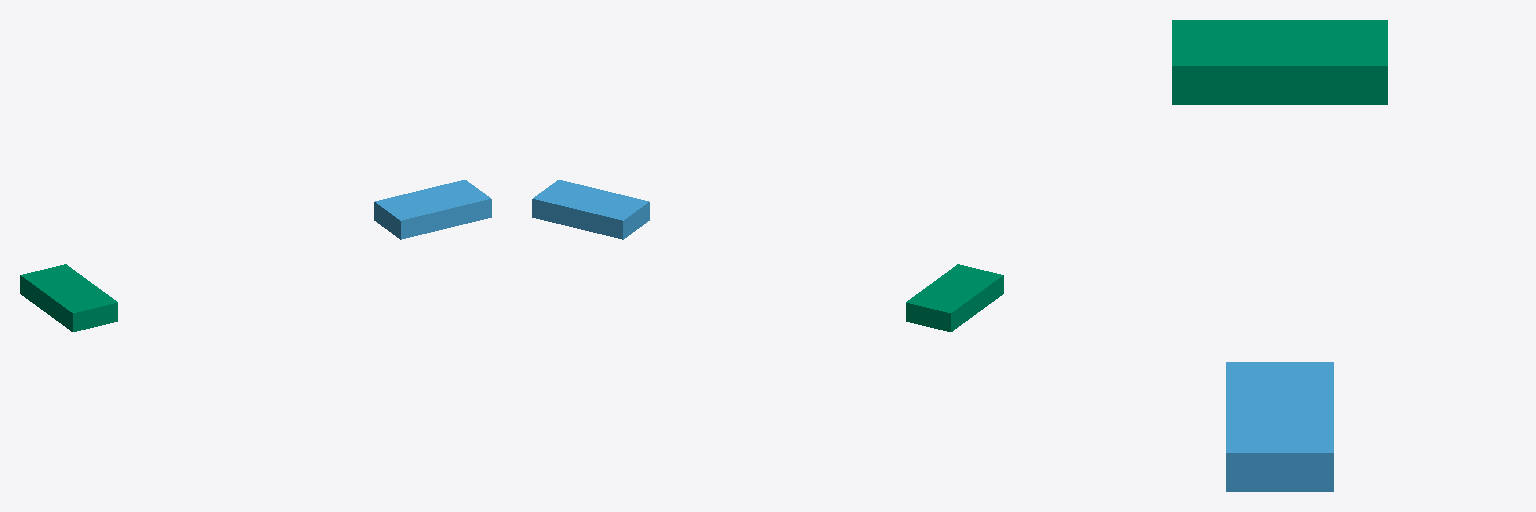
URDF robot description (repeated_instances):
<robot name="repeated_instances"><link name="base"/><link name="box_1"><inertial><origin xyz="0 0 0" rpy="0 0 0"/><mass value="0.2"/><inertia ixx="0.00004833333333333333" iyy="0.00017333333333333333" izz="0.00020833333333333335" ixy="0" ixz="0" iyz="0"/></inertial><visual><geometry><box size="0.1 0.05 0.02"/></geometry></visual><collision><geometry><box size="0.1 0.05 0.02"/></geometry></collision></link><joint name="fixed_1" type="fixed"><parent link="base"/><child link="box_1"/><origin xyz="0.2 0 0" rpy="0 0 0"/></joint><link name="box_2"><inertial><origin xyz="0 0 0" rpy="0 0 0"/><mass value="0.2"/><inertia ixx="0.00004833333333333333" iyy="0.00017333333333333333" izz="0.00020833333333333335" ixy="0" ixz="0" iyz="0"/></inertial><visual><geometry><box size="0.1 0.05 0.02"/></geometry></visual><collision><geometry><box size="0.1 0.05 0.02"/></geometry></collision></link><joint name="fixed_2" type="fixed"><parent link="base"/><child link="box_2"/><origin xyz="-0.2 0 0" rpy="0 0 1.5707963267948966"/></joint></robot>

--- Render facts (derived) ---
Views: 3 orthographic renders of the robot side by side, from view 1: azimuth 30°, elevation 25°; view 2: azimuth 150°, elevation 25°; view 3: azimuth 270°, elevation 25°.
Robot: repeated_instances — 3 links, 2 joints (2 fixed); root link base; default pose: every joint at zero.
Links seen in each view (by area): view 1: box_1, box_2; view 2: box_1, box_2; view 3: box_2, box_1.
Link boxes in pixels (x1,y1,x2,y2): box_1: (374,180,491,239); box_2: (20,264,117,331); box_1: (532,180,649,239); box_2: (906,264,1003,331); box_2: (1172,20,1387,104); box_1: (1226,362,1333,491).
Bounding box of the posed robot: 0.475 × 0.1 × 0.02 m (x, y, z).
Geometry: primitives only (box / cylinder / sphere), no mesh files.
